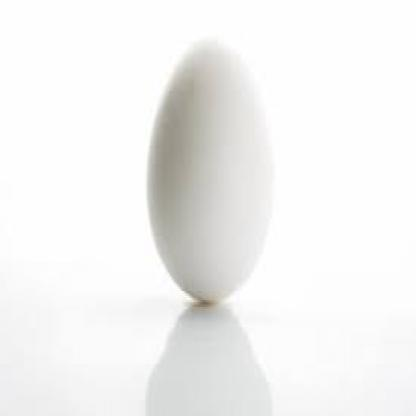egg: (143, 34, 280, 306)
